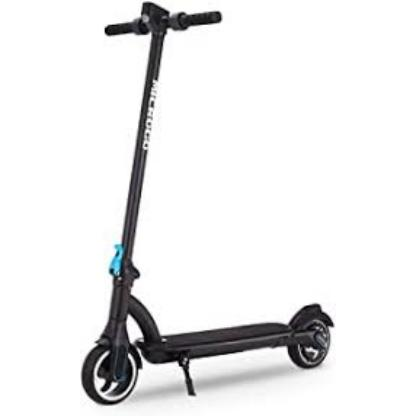bike: (79, 5, 336, 407)
